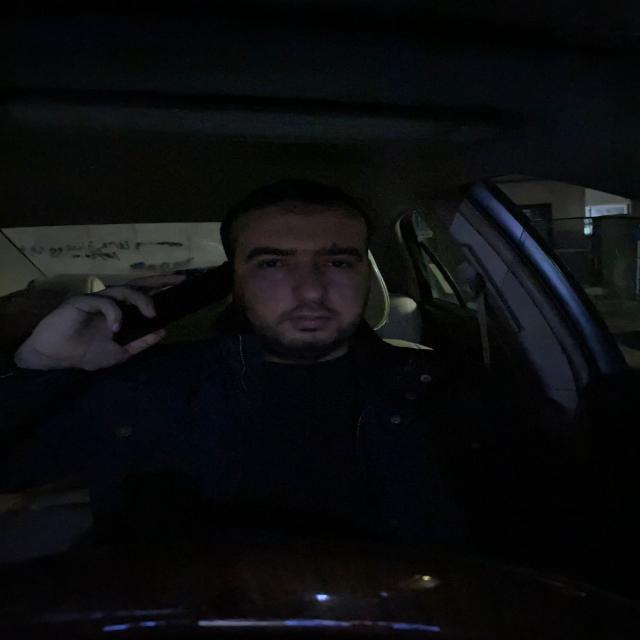phone: (106, 263, 232, 342)
